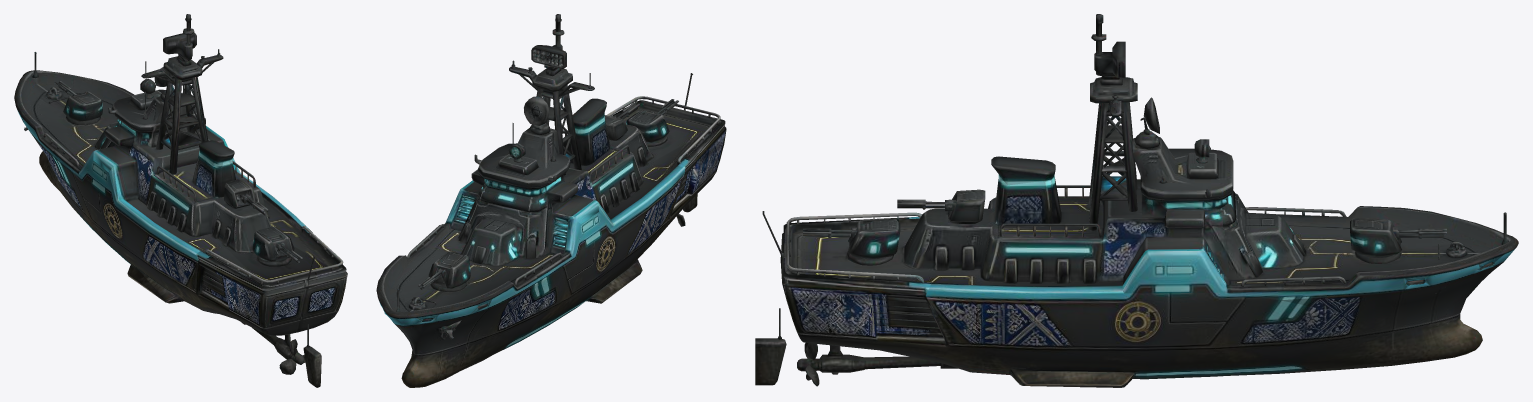
Rendered from relay_mast.glb.
The picture shows the model from 3 angles, left to right: view 1: azimuth 30°, elevation 25°; view 2: azimuth 150°, elevation 25°; view 3: azimuth 270°, elevation 25°; orthographic projection. The views are drawn at different scales.
Visible parts, largest first — view 1: Body, Trim, Turret; view 2: Body, Trim, Turret; view 3: Body, Trim, Turret.
Boxes of the visible parts, box(x1,y1,x2,y2) form: Body: box(14, 14, 347, 387); Trim: box(19, 114, 307, 260); Turret: box(66, 89, 102, 120); Body: box(376, 14, 726, 387); Trim: box(381, 113, 684, 341); Turret: box(429, 251, 469, 286); Body: box(755, 14, 1518, 387); Trim: box(926, 174, 1516, 378); Turret: box(1350, 218, 1418, 251).
Bounding box in the file's own units: 7.11 × 15.28 × 28.6.
Materials: 2 (2 with a texture image).
